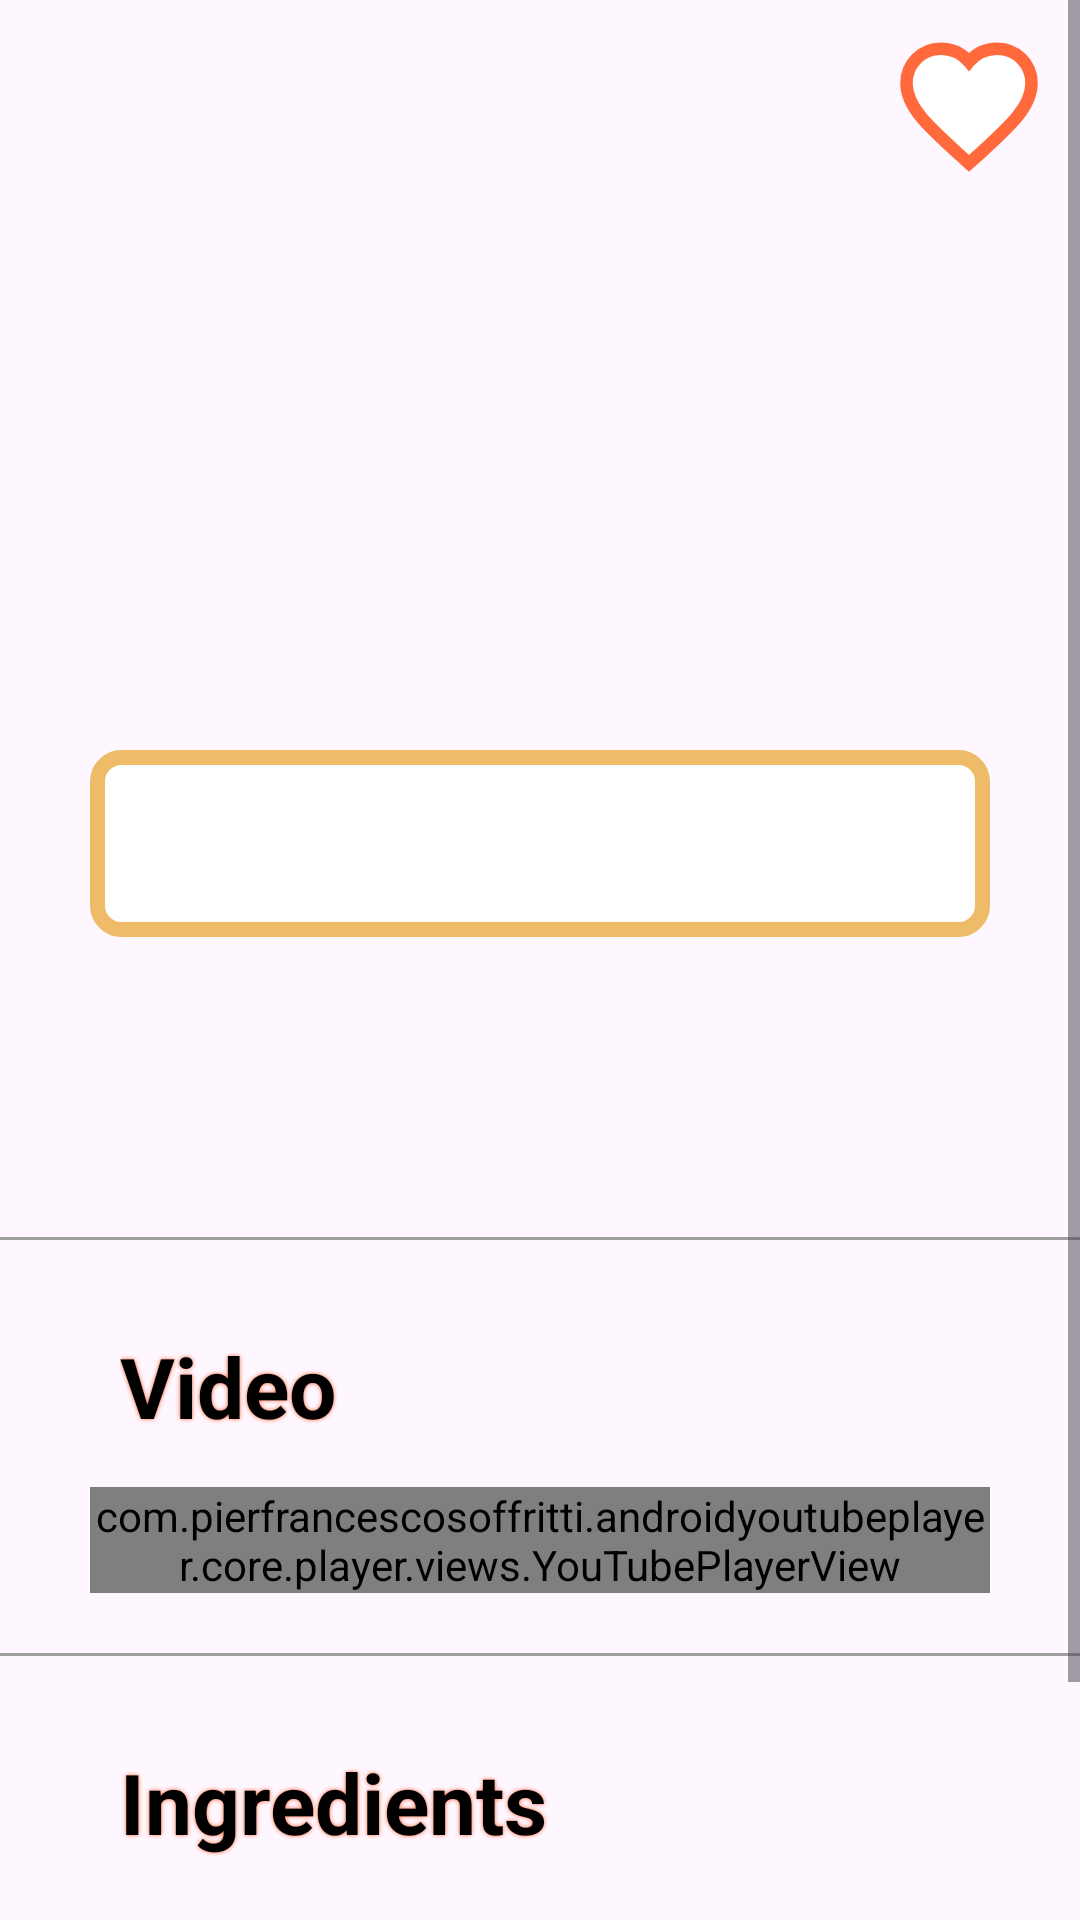

Point at icon controls on the screen. Image size 1080w x 1920h, points as (x,y).
favorite false: (969,107)
